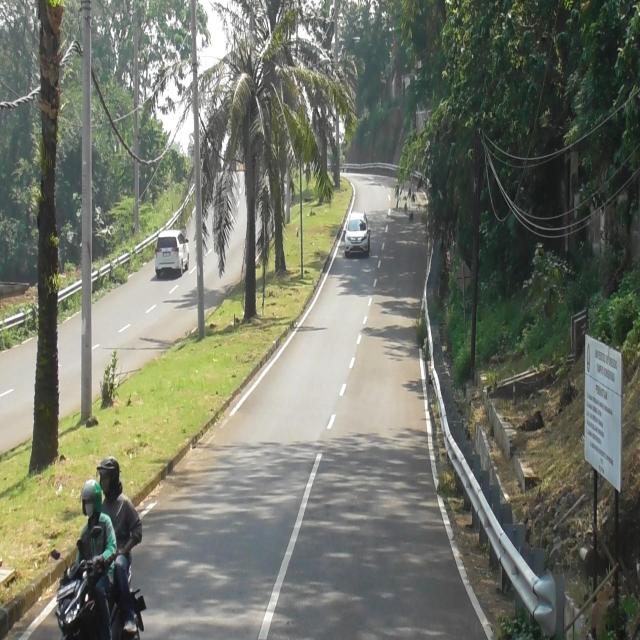motorcycle: (50, 543, 146, 640)
person: (95, 456, 140, 634), (72, 479, 115, 638)
rider_region: (51, 450, 150, 640)
